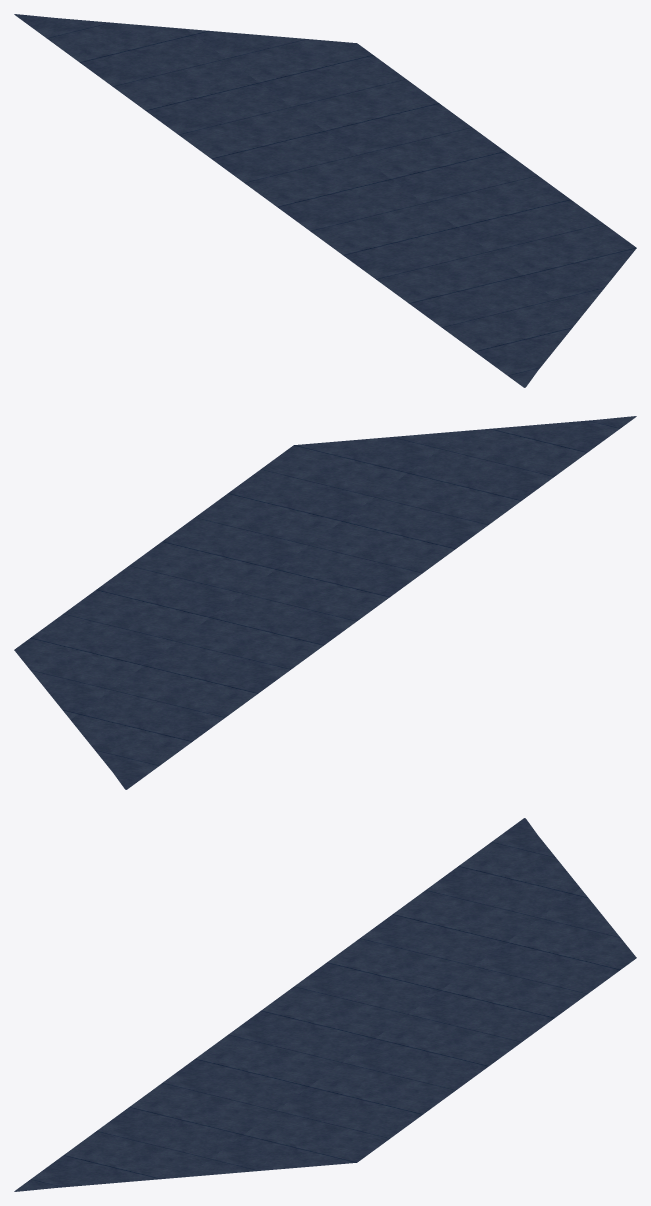
File: lot_floor.glb
3 renders of one model, top to bottom at view 1: azimuth 30°, elevation 25°; view 2: azimuth 150°, elevation 25°; view 3: azimuth 330°, elevation 25°, orthographic.
Visible parts, largest first — view 1: lot_floor; view 2: lot_floor; view 3: lot_floor.
Part boxes in pixels (x1=…): lot_floor: x1=14, y1=14, x2=636, y2=387; lot_floor: x1=14, y1=416, x2=636, y2=789; lot_floor: x1=14, y1=818, x2=636, y2=1191.
Bounding box in the file's own units: 16 × 0 × 62.
1 material, 1 textured.
